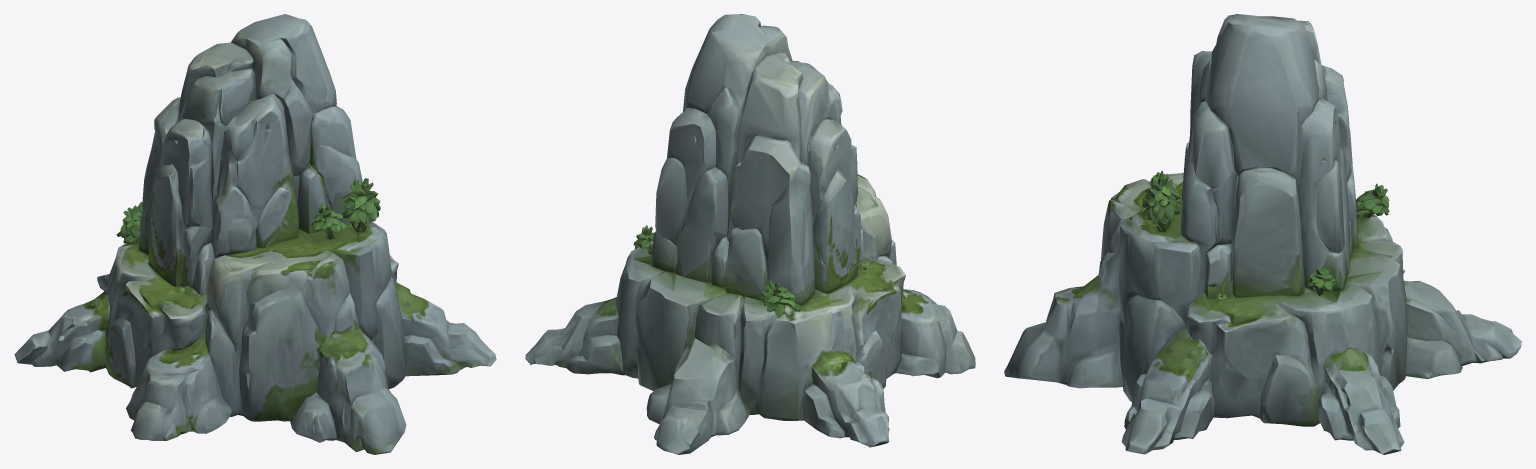
3 views of the same model, side by side, from view 1: azimuth 30°, elevation 25°; view 2: azimuth 150°, elevation 25°; view 3: azimuth 270°, elevation 25° (orthographic). The views are drawn at different scales.
Visible parts, largest first — view 1: mountain_peak; view 2: mountain_peak; view 3: mountain_peak.
Part boxes in pixels (left/top/right/bottom): mountain_peak: left=14, top=14, right=496, bottom=454; mountain_peak: left=525, top=14, right=975, bottom=454; mountain_peak: left=1004, top=14, right=1521, bottom=454.
Bounding box in the file's own units: 0.854 × 0.7656 × 0.981.
1 material, 1 textured.
